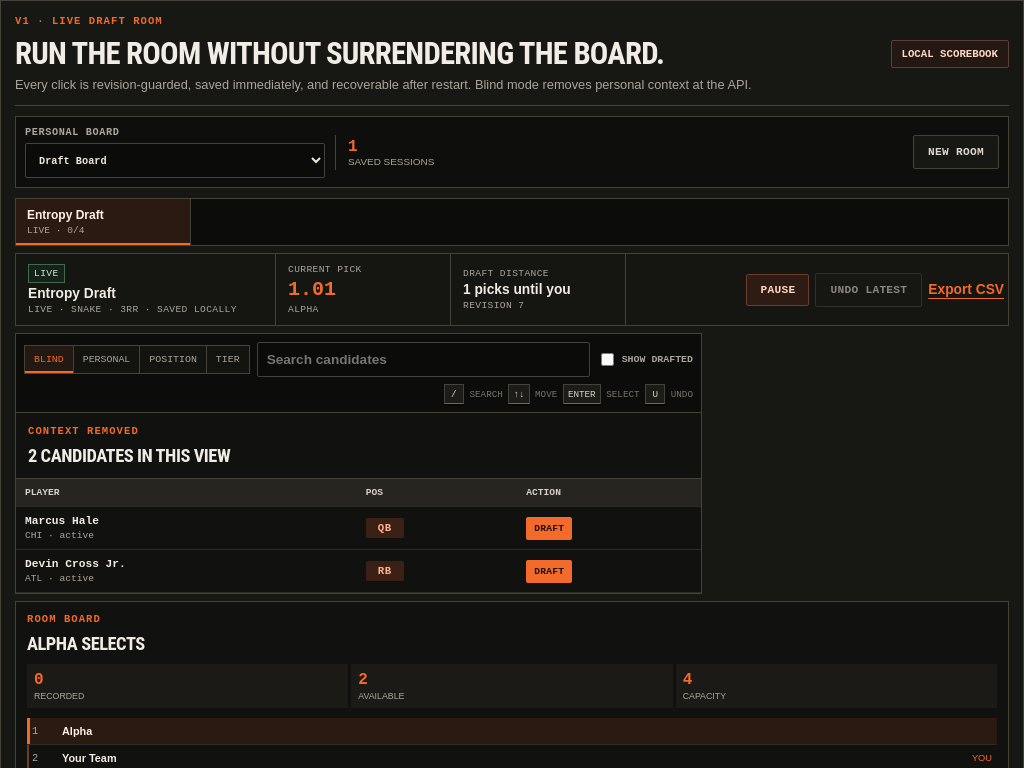
Test case: DraftWorkspace › mounts decision support only after leaving Blind view
Expected: the row "Marcus Hale CHI · active QB Draft" is shown, [16, 506, 701, 550]
Expected: the element "Decision support" is not shown
Click the button "personal": (106, 360) [73, 345, 139, 374]
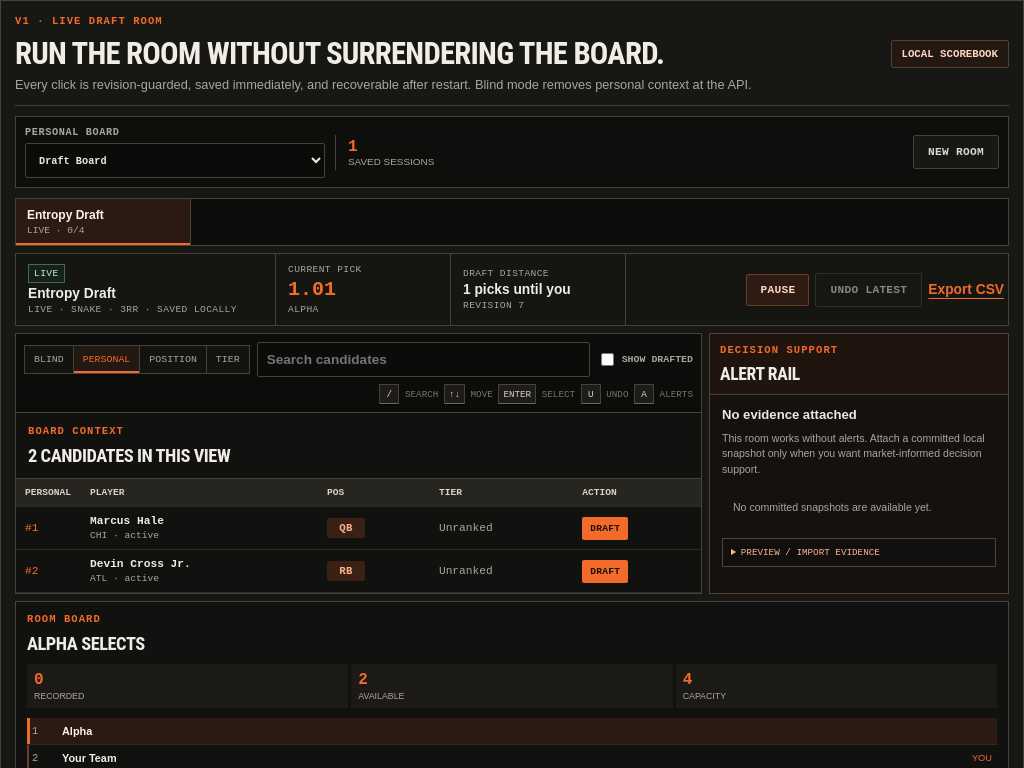
Now the element "Decision support" is shown, box [709, 333, 1009, 594]
Now the text "No evidence attached" is shown, box [722, 407, 857, 422]
Click the button "blind": (48, 360) [24, 345, 73, 374]
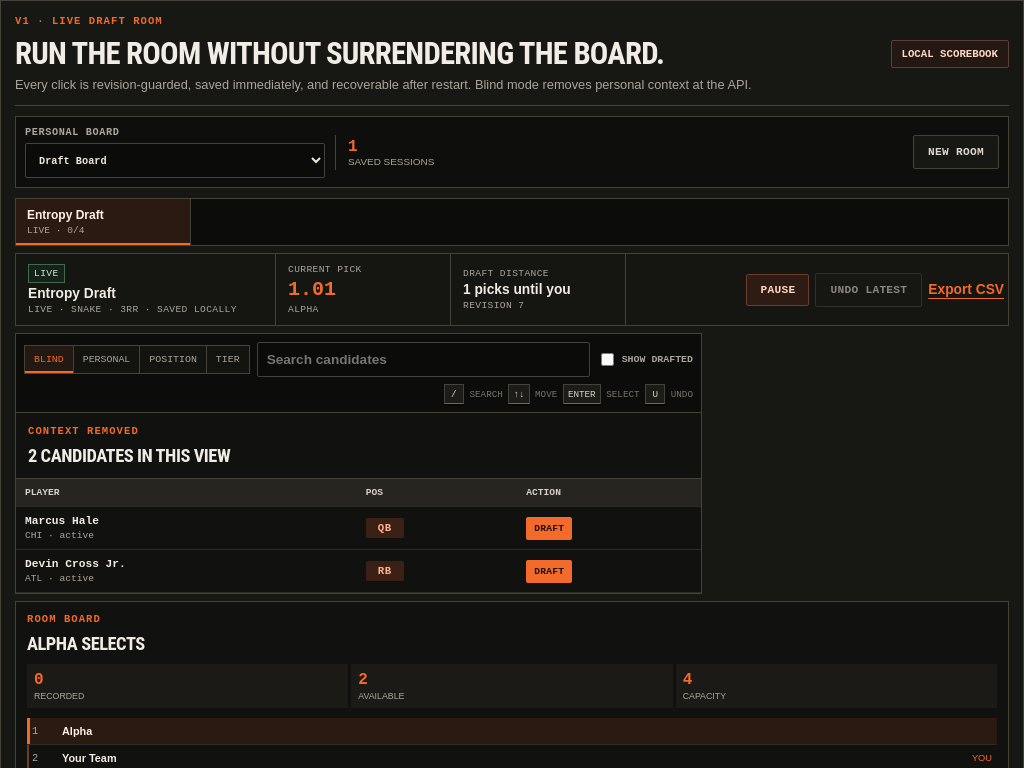
Now the text "Decision support" is gone
